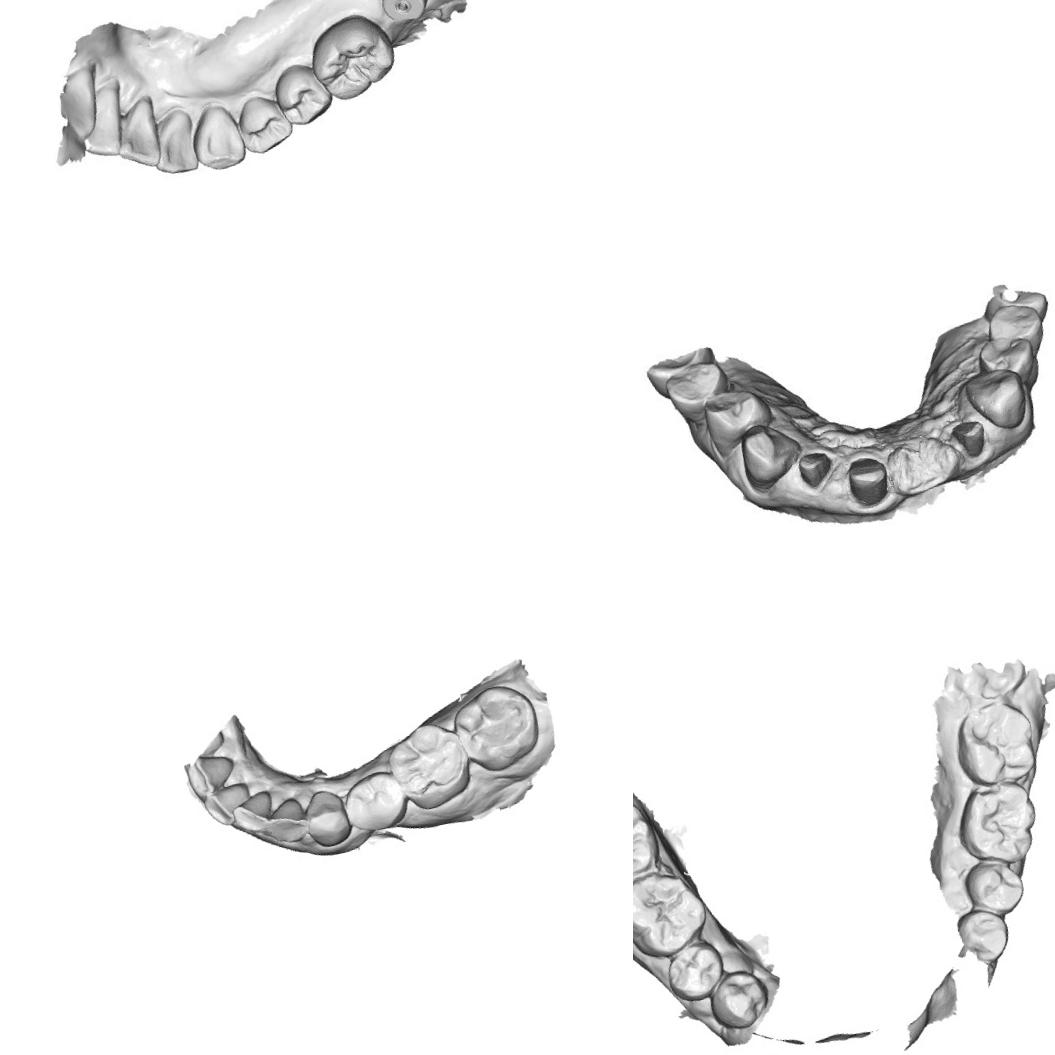canine: (186, 96, 252, 179), (968, 365, 1038, 437), (738, 419, 804, 490), (262, 796, 310, 846)
crown: (844, 448, 898, 512), (790, 444, 834, 490), (949, 414, 991, 456)
implant: (376, 0, 432, 27)
incisor: (71, 81, 132, 166), (111, 94, 169, 175), (178, 748, 240, 802), (150, 106, 199, 174), (199, 780, 258, 830), (227, 787, 279, 838)
molar: (447, 678, 548, 781), (947, 694, 1045, 796), (303, 6, 399, 109), (382, 716, 477, 815), (633, 865, 718, 964), (950, 779, 1042, 867), (633, 794, 666, 892)
premolar: (660, 356, 742, 426), (338, 766, 412, 838), (265, 55, 336, 130), (958, 852, 1028, 921), (660, 936, 730, 1004), (704, 964, 770, 1035), (228, 87, 294, 157), (701, 388, 768, 454), (952, 900, 1014, 968), (978, 325, 1046, 383), (298, 785, 355, 851), (986, 292, 1047, 347)
